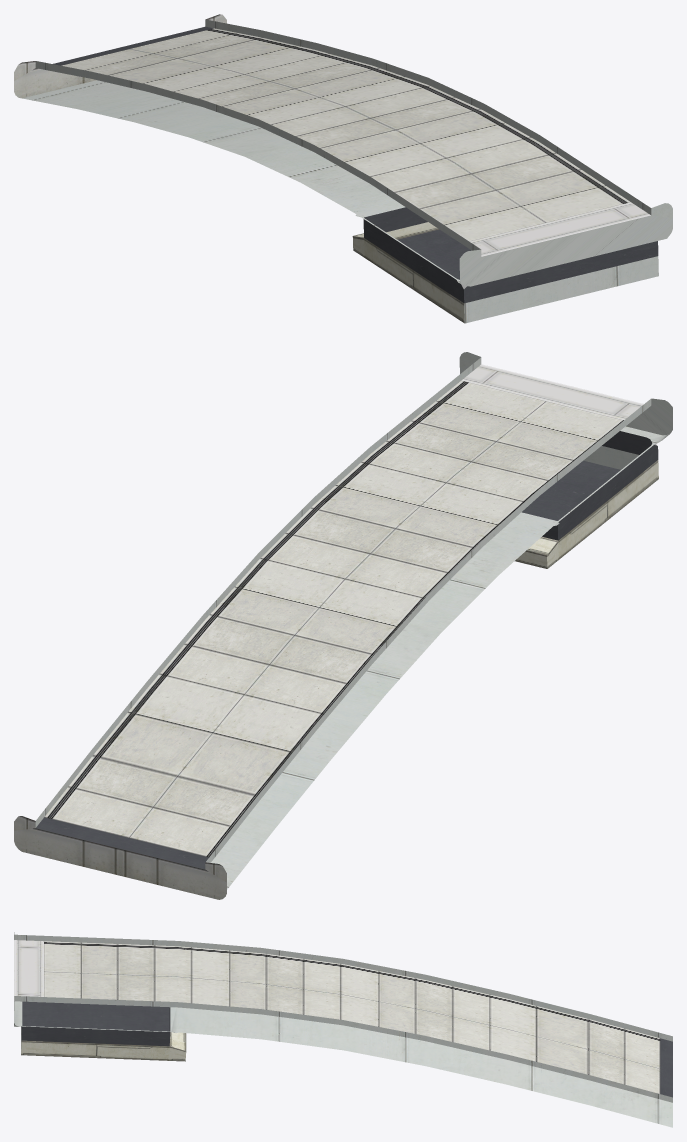
File: STA20_BRIDGE01.FBX
3 renders of one model, top to bottom at view 1: azimuth 30°, elevation 25°; view 2: azimuth 150°, elevation 25°; view 3: azimuth 270°, elevation 25°, orthographic. The views are drawn at different scales.
Parts seen in each view (by area): view 1: STA20_BRIDGE01; view 2: STA20_BRIDGE01; view 3: STA20_BRIDGE01.
Part boxes in pixels (x1=…): STA20_BRIDGE01: x1=14, y1=14, x2=672, y2=323; STA20_BRIDGE01: x1=14, y1=352, x2=672, y2=899; STA20_BRIDGE01: x1=14, y1=932, x2=672, y2=1127.
Bounding box in the file's own units: 7.2 × 5.6 × 26.09.
